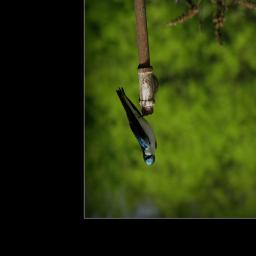Swallow: (115, 84, 157, 167)
